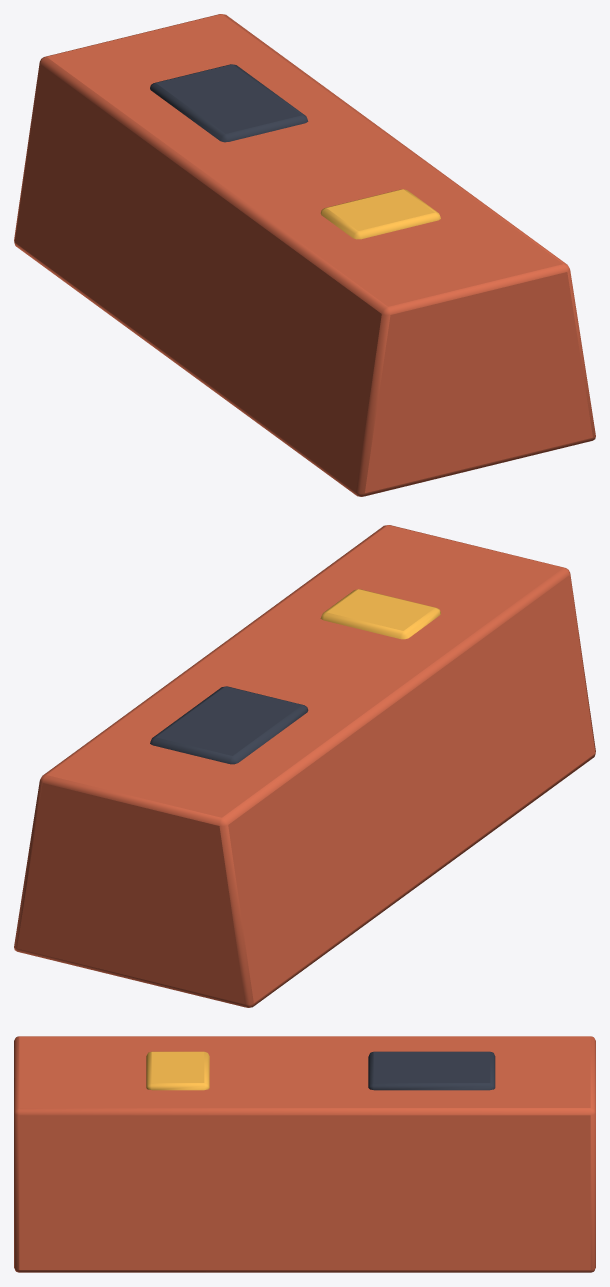
The model's file is ware_sednit.fbx.
The picture shows the model from 3 angles, top to bottom: view 1: azimuth 30°, elevation 25°; view 2: azimuth 150°, elevation 25°; view 3: azimuth 270°, elevation 25°; orthographic projection. The views are drawn at different scales.
Parts seen in each view (by area): view 1: ware_sednit_Koerper; view 2: ware_sednit_Koerper; view 3: ware_sednit_Koerper.
Part boxes in pixels (bbox=[...]): ware_sednit_Koerper: bbox=[14, 14, 595, 496]; ware_sednit_Koerper: bbox=[14, 525, 595, 1007]; ware_sednit_Koerper: bbox=[14, 1036, 595, 1272].
Bounding box in the file's own units: 0.2185 × 0.165 × 0.55.
